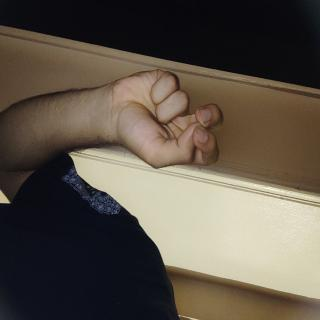QAAF: (48, 123, 135, 294)
